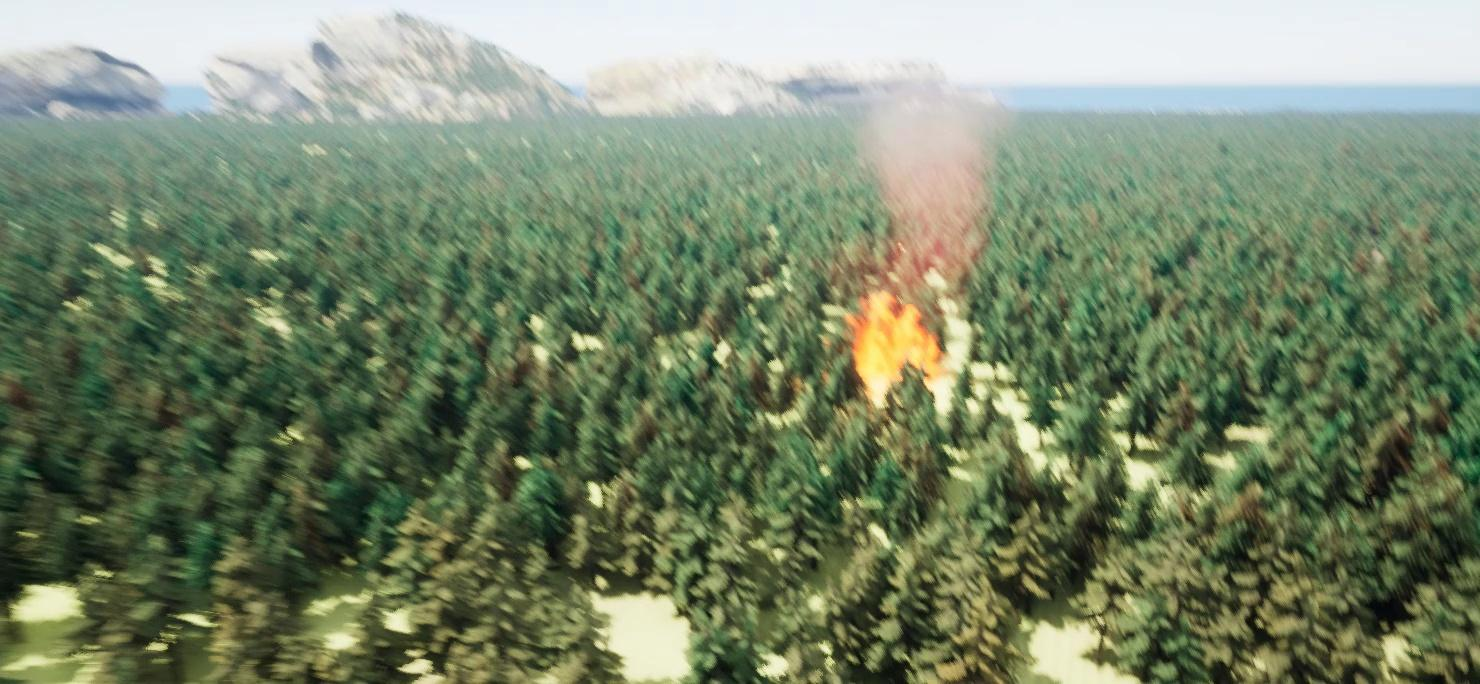fire: (844, 287, 944, 375)
smoke: (857, 64, 1005, 282)
